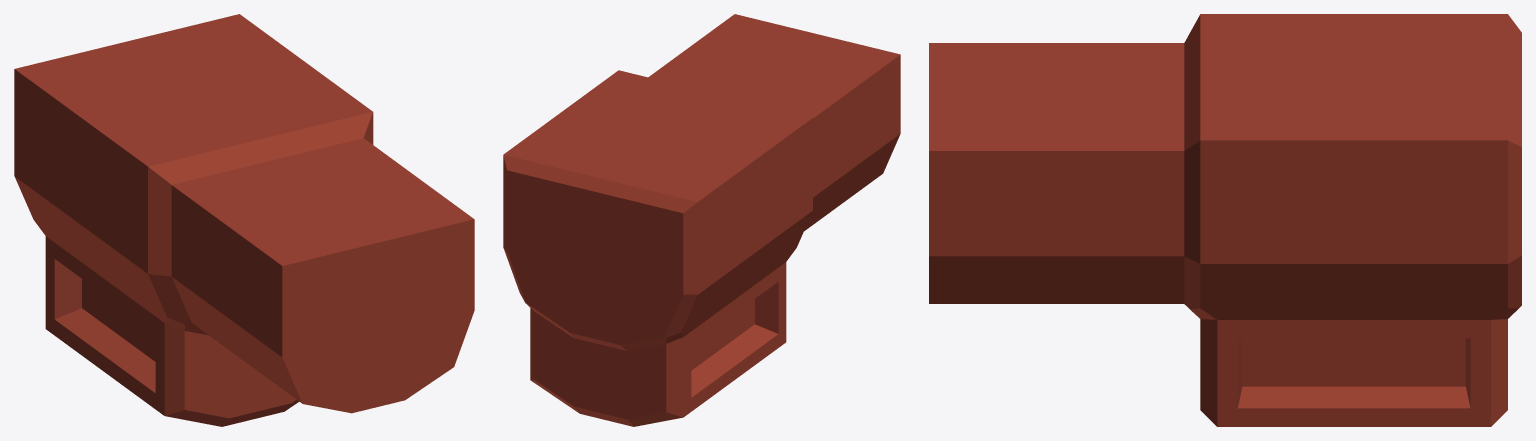
The model's file is Personal_Vehicle_04_Central_Hub_Red.fbx.
3 views of the same model, side by side, from view 1: azimuth 30°, elevation 25°; view 2: azimuth 150°, elevation 25°; view 3: azimuth 270°, elevation 25° (orthographic). The views are drawn at different scales.
Visible parts, largest first — view 1: Personal_Vehicle_04_Central_Hub_Red; view 2: Personal_Vehicle_04_Central_Hub_Red; view 3: Personal_Vehicle_04_Central_Hub_Red.
Part boxes in pixels (x1,y1,x2,y2): Personal_Vehicle_04_Central_Hub_Red: (14,14,474,426); Personal_Vehicle_04_Central_Hub_Red: (503,14,900,426); Personal_Vehicle_04_Central_Hub_Red: (929,14,1521,426).
Size of the model in its own units: 45.36 by 54.97 by 89.88.
1 material, 1 textured.
